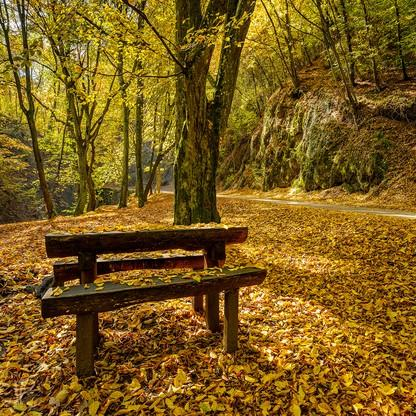obstacle: (31, 219, 270, 377)
